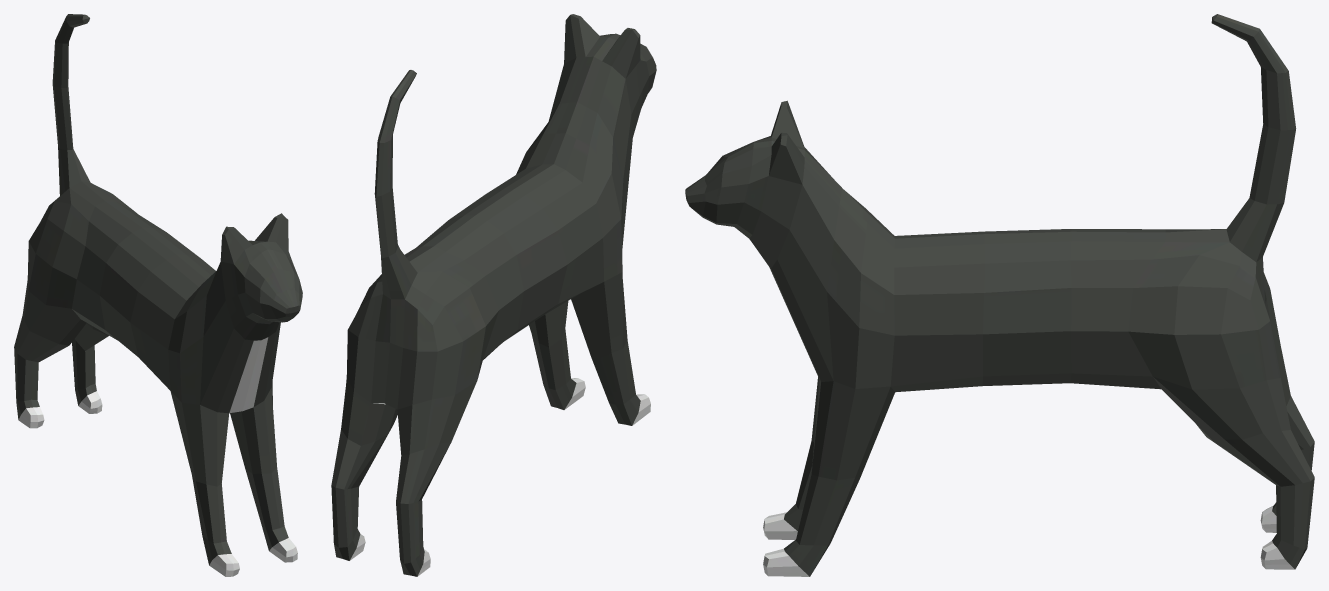
Rendered from cat.glb.
The picture shows the model from 3 angles, left to right: view 1: azimuth 30°, elevation 25°; view 2: azimuth 150°, elevation 25°; view 3: azimuth 270°, elevation 25°; orthographic projection. The views are drawn at different scales.
Visible parts, largest first — view 1: 02catFinal; view 2: 02catFinal; view 3: 02catFinal.
Part boxes in pixels (box(x1,y1,x2,y2)): 02catFinal: box(14, 14, 302, 576); 02catFinal: box(331, 14, 656, 576); 02catFinal: box(685, 14, 1314, 576).
Size of the model in its own units: 0.2011 by 0.8261 by 0.871.
1 material, 1 textured.
